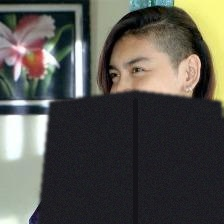Cadar_Niqab: (38, 2, 224, 224)
